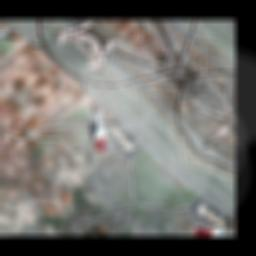Woodpecker: (61, 97, 137, 161)
